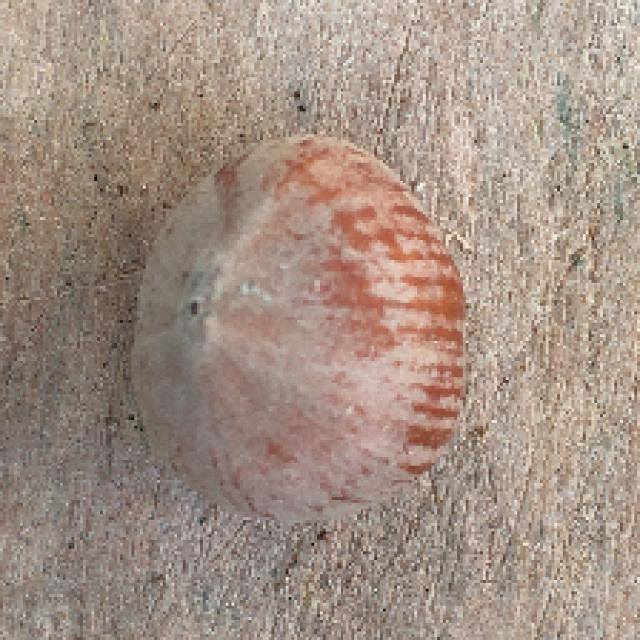qualityHazelnut: (117, 133, 477, 543)
